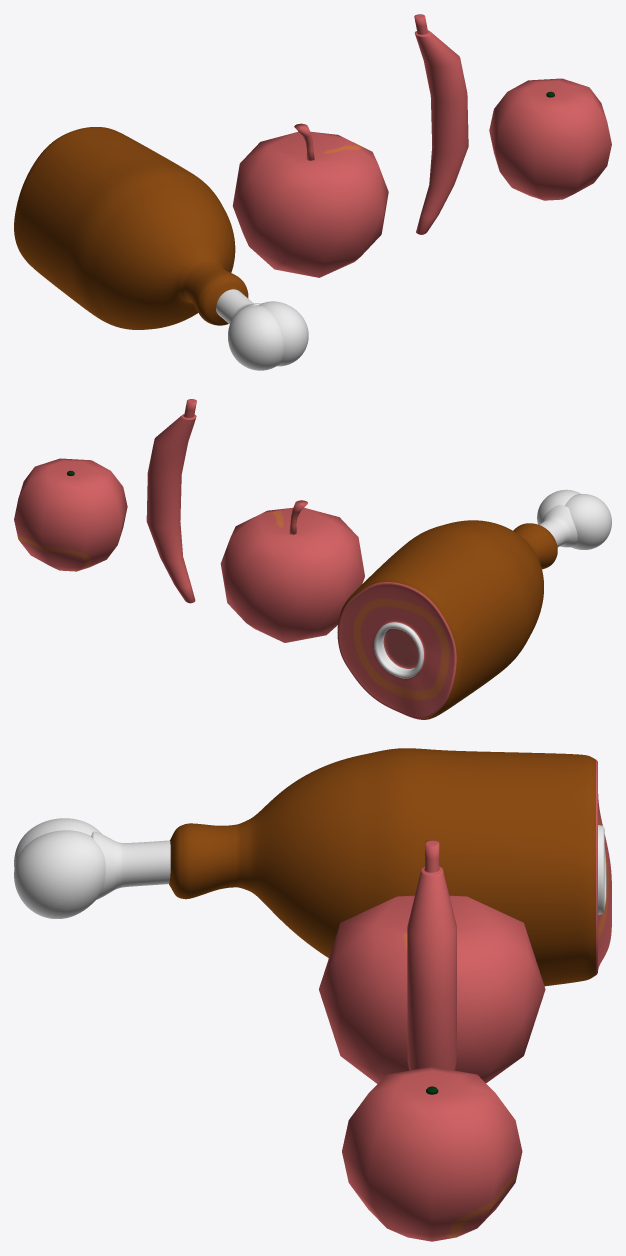
Rendered from props_comida_videojuego.fbx.
3 renders of one model, top to bottom at view 1: azimuth 30°, elevation 25°; view 2: azimuth 150°, elevation 25°; view 3: azimuth 270°, elevation 25°, orthographic. The views are drawn at different scales.
Visible parts, largest first — view 1: Trozo_Carne, Manzana, Naranja, Platano; view 2: Trozo_Carne, Manzana, Naranja, Platano; view 3: Trozo_Carne, Manzana, Naranja, Platano.
Boxes of the visible parts, left/top/right/bottom form: Trozo_Carne: left=14, top=127, right=308, bottom=370; Manzana: left=232, top=123, right=388, bottom=277; Naranja: left=489, top=78, right=611, bottom=200; Platano: left=414, top=14, right=468, bottom=234; Trozo_Carne: left=337, top=489, right=611, bottom=719; Manzana: left=220, top=500, right=364, bottom=642; Naranja: left=14, top=458, right=127, bottom=571; Platano: left=146, top=399, right=196, bottom=603; Trozo_Carne: left=14, top=748, right=611, bottom=986; Manzana: left=319, top=895, right=545, bottom=1083; Naranja: left=342, top=1066, right=522, bottom=1241; Platano: left=407, top=840, right=456, bottom=1070.
Bounding box in the file's own units: 425 × 178 × 287.
10 materials, 6 textured.
